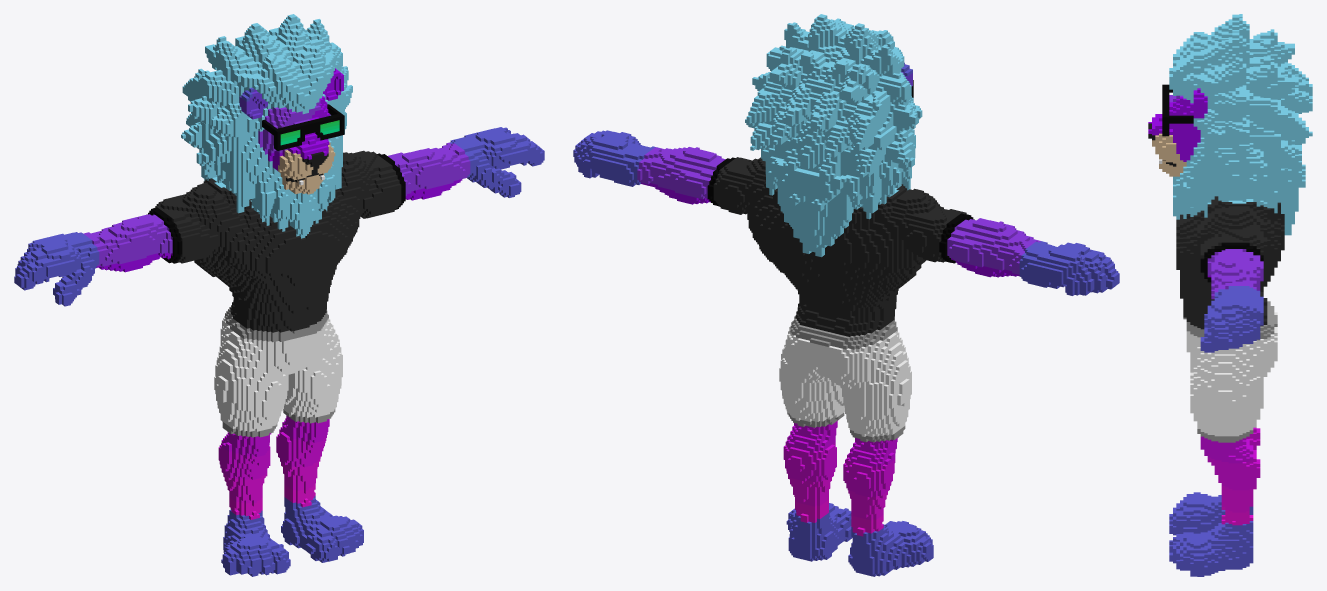
The model's file is 415-DpUmJBGs.glb.
3 renders of one model, left to right at view 1: azimuth 30°, elevation 25°; view 2: azimuth 150°, elevation 25°; view 3: azimuth 270°, elevation 25°, orthographic. The views are drawn at different scales.
Parts seen in each view (by area): view 1: standard; view 2: standard; view 3: standard.
Boxes of the visible parts, x1,y1,x2,y2 form: standard: [14, 14, 544, 576]; standard: [573, 14, 1119, 576]; standard: [1148, 14, 1312, 576].
Size of the model in its own units: 17.2 by 16.5 by 4.7.
5 materials, 5 textured.
